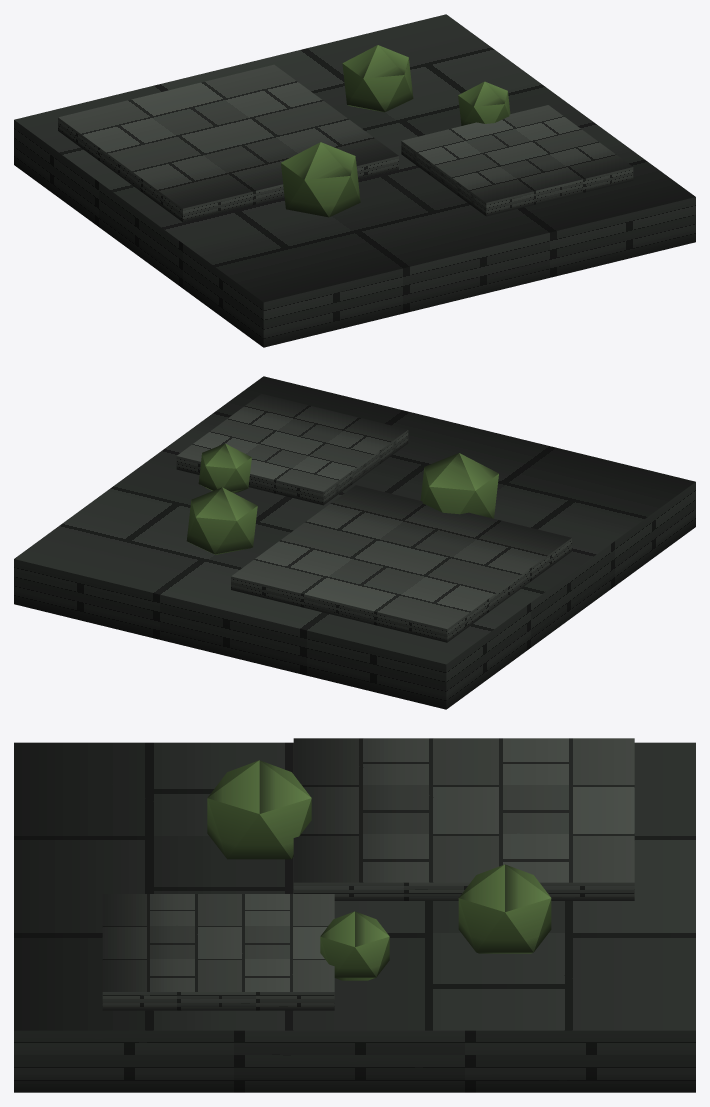
File: ground_moss.gltf
The picture shows the model from 3 angles, top to bottom: view 1: azimuth 30°, elevation 25°; view 2: azimuth 150°, elevation 25°; view 3: azimuth 270°, elevation 25°; orthographic projection. The views are drawn at different scales.
Parts seen in each view (by area): view 1: ground_moss; view 2: ground_moss; view 3: ground_moss.
Part boxes in pixels (x1,y1,x2,y2): ground_moss: (14,14,695,347); ground_moss: (14,376,695,709); ground_moss: (14,738,695,1092).
Bounding box in the file's own units: 1 × 0.23 × 1.
Materials: 1 (1 with a texture image).
